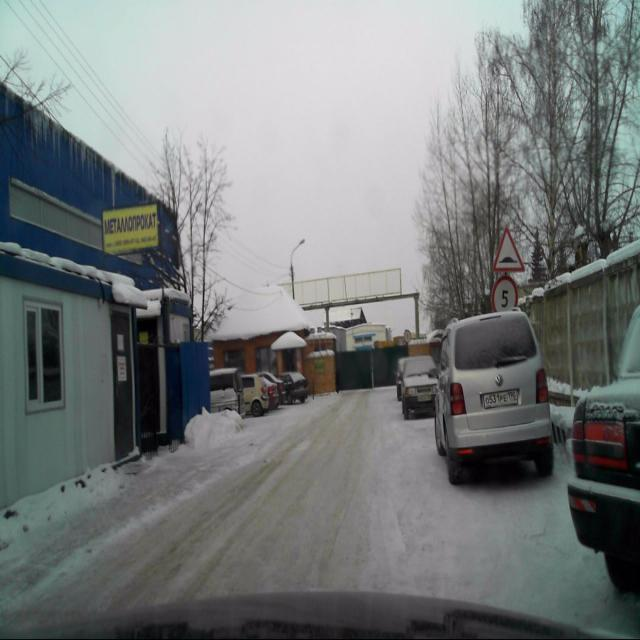road sign: (490, 225, 522, 272)
